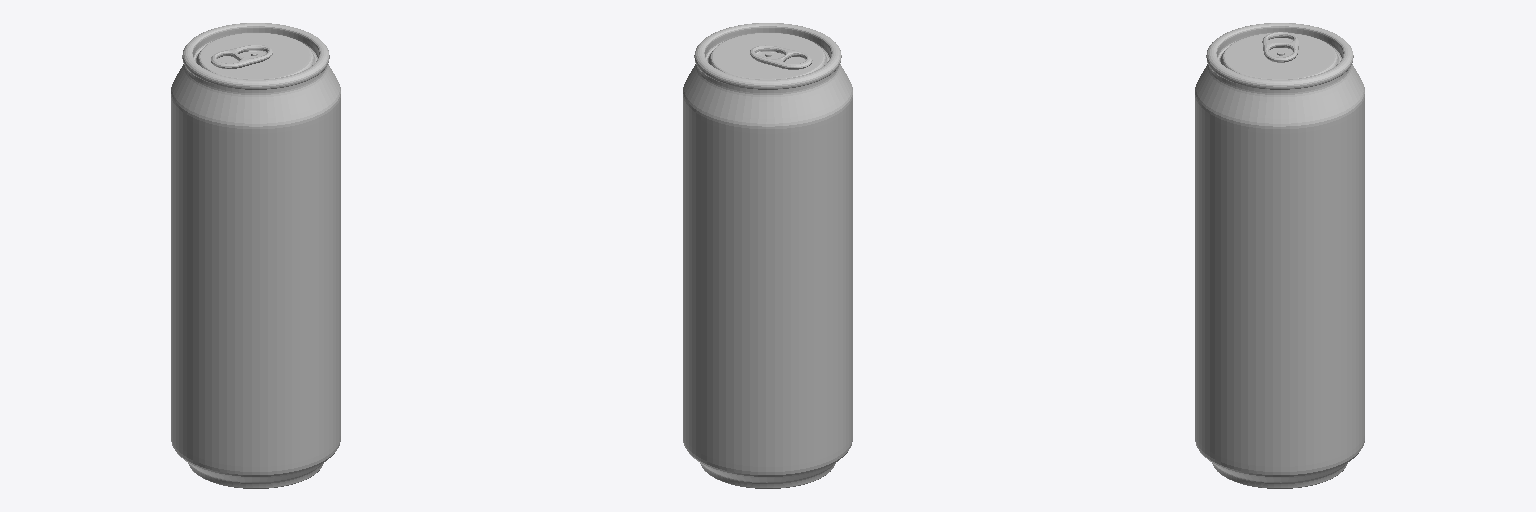
File: monster_can.obj
3 views of the same model, side by side, from view 1: azimuth 30°, elevation 25°; view 2: azimuth 150°, elevation 25°; view 3: azimuth 270°, elevation 25° (orthographic).
Parts seen in each view (by area): view 1: monster_can; view 2: monster_can; view 3: monster_can.
Part boxes in pixels (x1,y1,x2,y2): monster_can: (171,23,340,488); monster_can: (683,23,852,488); monster_can: (1195,23,1364,488).
Bounding box in the file's own units: 0.586 × 1.55 × 0.586.